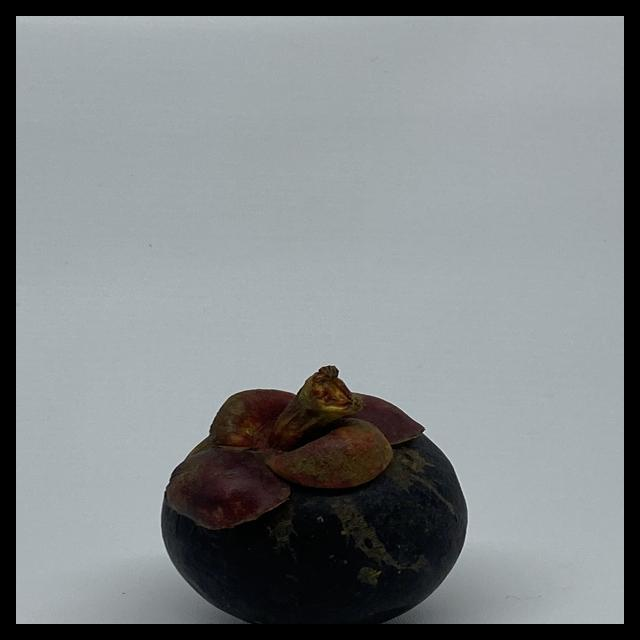mangosteen: (153, 365, 482, 624)
